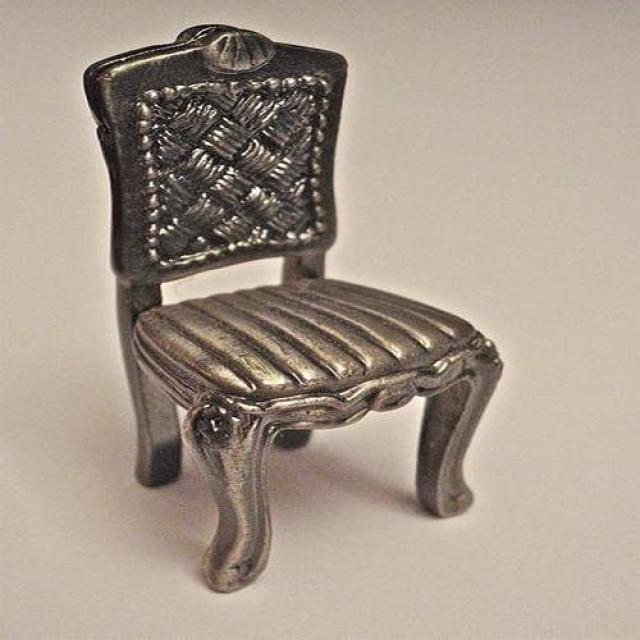chair: (83, 26, 504, 595)
